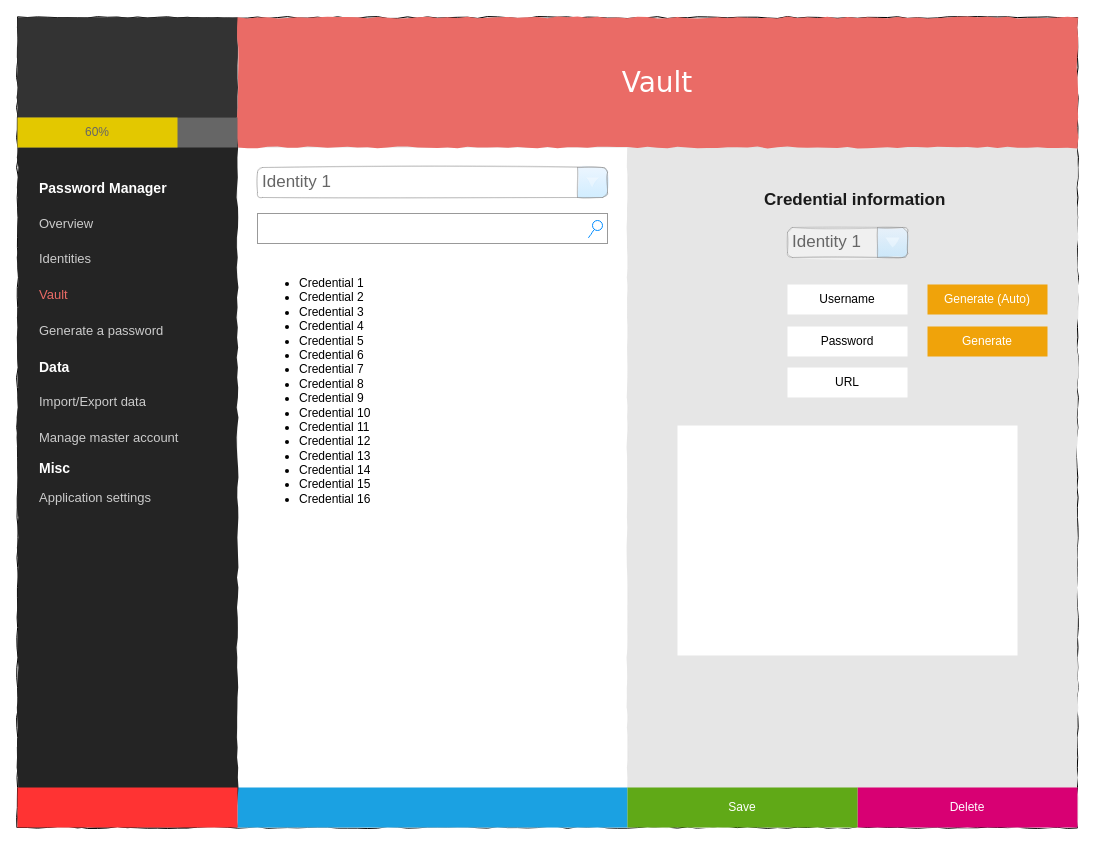
This 1095x845 diagram has some shape labels left out. The shapes that lost their labels are listed below. From the top down, each one's centre as x and y in pixels, then its label:
At pixel 127 67: "Master account name".
At pixel 432 228: "Search".
At pixel 847 540: "Additional notes".
At pixel 127 807: "Logout".
At pixel 432 807: "Add new".
